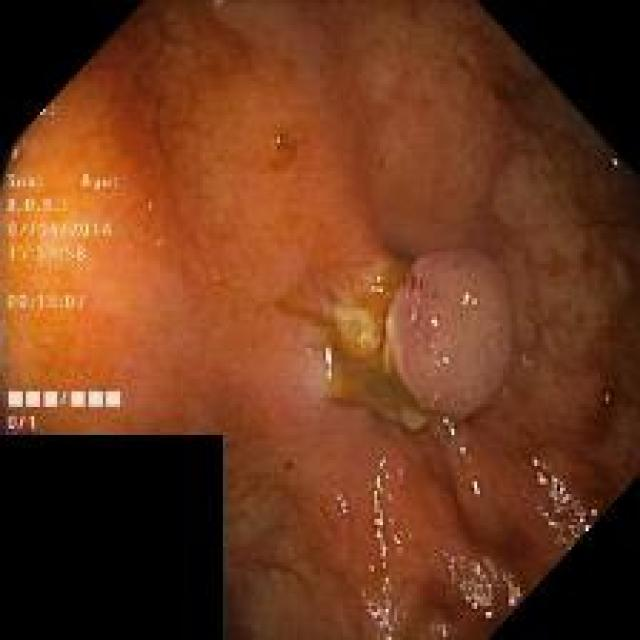Polyps: (386, 253, 512, 417)
